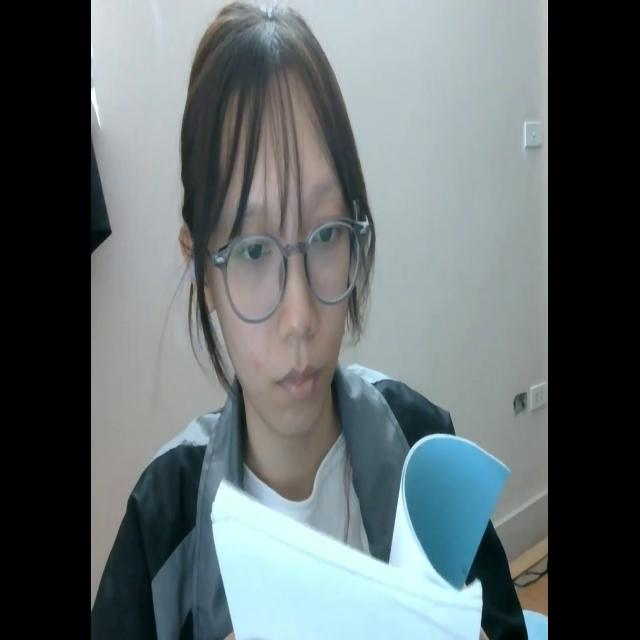book: (199, 428, 507, 640)
student: (96, 4, 524, 640)
